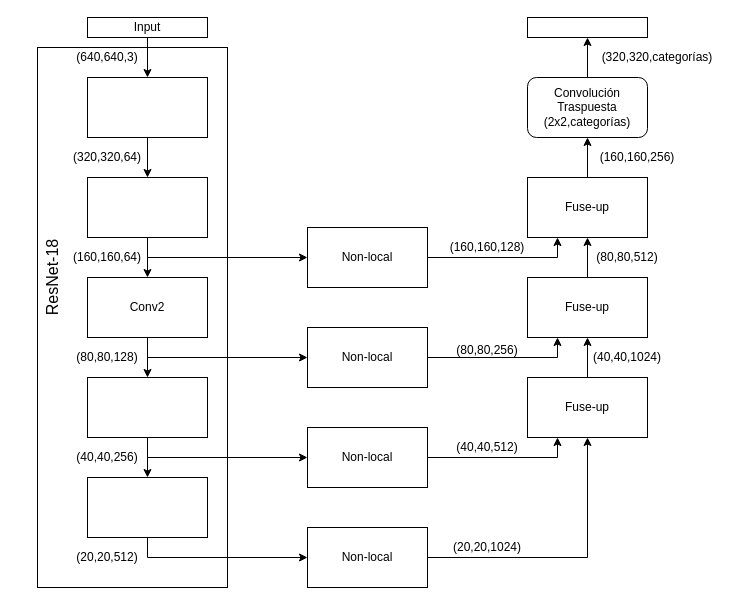
The diagram is 730 pixels wide and 605 high, and some of its shapes have lost their labels. The shapes that lost their labels are listed below. From the top down, each one's box as (x1, y1, x2, y2) in pixels, then its label:
(526, 16, 648, 38): Output
(86, 76, 208, 138): Conv0
(86, 176, 208, 238): Conv1
(86, 376, 208, 438): Conv3
(86, 476, 208, 538): Conv4
